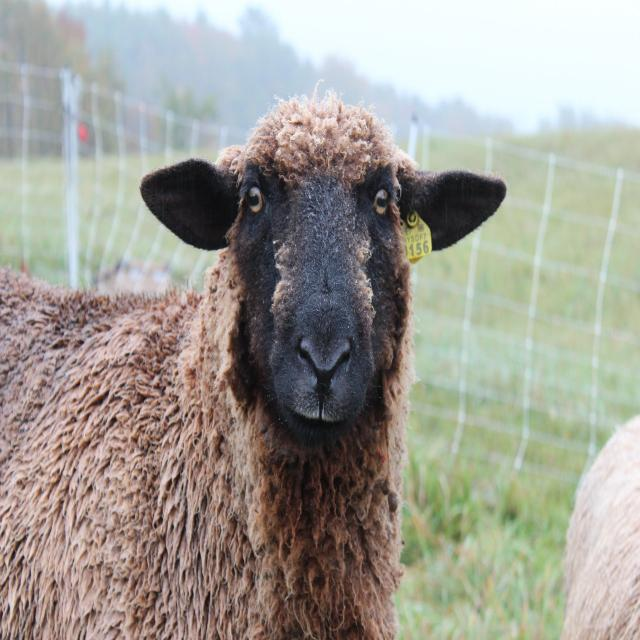Boar: (1, 81, 507, 638), (560, 413, 640, 639)
